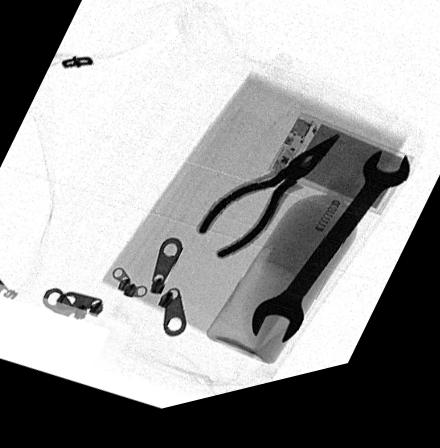Pliers: (196, 150, 343, 272)
Powerbank: (267, 126, 415, 235)
Wrench: (251, 169, 408, 359)
